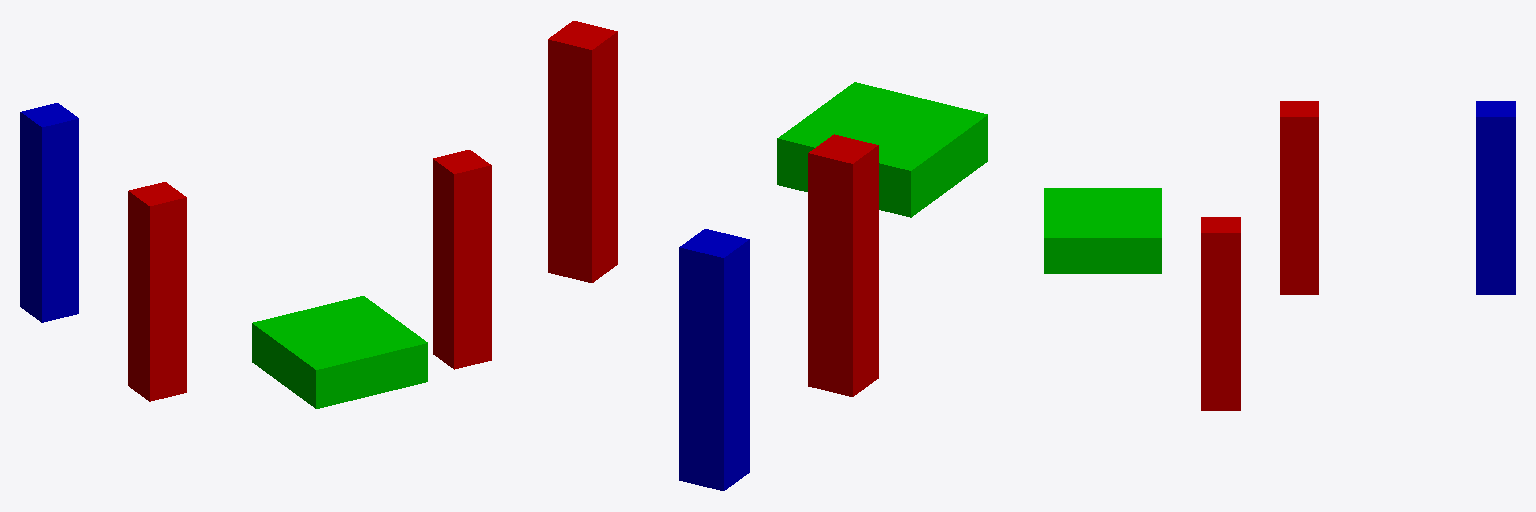
URDF robot description (test_robot):
<?xml version="1.0"?>
<robot name="test_robot"
       xmlns:sensor="http://playerstage.sourceforge.net/gazebo/xmlschema/#sensor"
       xmlns:controller="http://playerstage.sourceforge.net/gazebo/xmlschema/#controller"
       xmlns:interface="http://playerstage.sourceforge.net/gazebo/xmlschema/#interface"
       xmlns:xacro="http://ros.org/wiki/xacro">

  <material name="Blue">
    <color rgba="0.0 0.0 0.8 1.0"/>
  </material>
  <material name="Green">
    <color rgba="0.0 0.8 0.0 1.0"/>
  </material>
  <material name="Grey">
    <color rgba="0.7 0.7 0.7 1.0"/>
  </material>
  <material name="Grey2">
    <color rgba="0.9 0.9 0.9 1.0"/>
  </material>
  <material name="Red">
    <color rgba="0.8 0.0 0.0 1.0"/>
  </material>
  <material name="White">
    <color rgba="1.0 1.0 1.0 1.0"/>
  </material>
  <material name="Black">
    <color rgba="0.0 0.0 0.0 1.0"/>
  </material>


  <link name="link1">
      <inertial>
	<origin xyz="0 0 0" /> 
	<mass value="4.0" />
	<inertia  ixx="1.0" ixy="0.0"  ixz="0.0"  iyy="100.0"  iyz="0.0"  izz="1.0" />
      </inertial>
      <visual>
        <origin xyz="0 0 0" rpy="0 0 0" />
        <geometry>
          <box size="3 3 1" />
        </geometry>
        <material name="Green"/>
      </visual>
  </link>

  <link name="link2">
      <inertial>
        <origin xyz="0 0 0" />
        <mass value="4.0" />
        <inertia  ixx="1.0" ixy="0.0"  ixz="0.0"  iyy="100.0"  iyz="0.0"  izz="1.0" />
      </inertial>
      <visual>
        <origin xyz="0 0 0" rpy="0 0 0" />
        <geometry>
          <box size="1 1 5" />
        </geometry>
        <material name="Red"/>
      </visual>
    </link>

  <link name="link3">
     <inertial>
        <origin xyz="0 0 0" />
        <mass value="4.0" />
        <inertia  ixx="1.0" ixy="0.0"  ixz="0.0"  iyy="100.0"  iyz="0.0"  izz="1.0" />
      </inertial>
      <visual>
        <origin xyz="0 0 0" rpy="0 0 0" />
        <geometry>
          <box size="1 1 5" />
        </geometry>
        <material name="Red"/>
      </visual>
   </link>

  <link name="link4">
     <inertial>
        <origin xyz="0 0 0" />
        <mass value="4.0" />
        <inertia  ixx="1.0" ixy="0.0"  ixz="0.0"  iyy="100.0"  iyz="0.0"  izz="1.0" />
      </inertial>
      <visual>
        <origin xyz="0 0 0" rpy="0 0 0" />
        <geometry>
          <box size="1 1 5" />
        </geometry>
        <material name="Blue"/>
      </visual>
   </link>

  <joint name="joint1" type="continuous">
    <parent link="link1"/>
    <child link="link2"/>
    <origin xyz="5 3 0" rpy="0 0 0" />
    <axis xyz="-0.9 0.15 0" />
  </joint>

  <joint name="joint2" type="continuous">
    <parent link="link1"/>
    <child link="link3"/>
    <origin xyz="-2 5 0" rpy="0 0 1.57" />
    <axis xyz="-0.707 0.707 0" />
  </joint>

  <joint name="joint3" type="continuous">
    <parent link="link3"/>
    <child link="link4"/>
    <origin xyz="5 0 0" rpy="0 0 -1.57" />
    <axis xyz="0.707 -0.707 0" />
  </joint>
</robot>

--- Facts derived from the render (not from the file) ---
3 views of the same robot in one strip: view 1: azimuth 30°, elevation 25°; view 2: azimuth 150°, elevation 25°; view 3: azimuth 270°, elevation 25° (orthographic).
Robot: test_robot — 4 links, 3 joints (3 continuous); root link link1; default pose: every joint at zero.
Visible links, largest first — view 1: link1, link4, link2, link3; view 2: link3, link4, link2, link1; view 3: link1, link2, link4, link3.
Boxes of the visible links, x1,y1,x2,y2 form: link1: (252, 296, 427, 408); link4: (20, 103, 78, 322); link2: (433, 150, 491, 369); link3: (128, 182, 186, 401); link3: (808, 134, 878, 396); link4: (679, 229, 749, 490); link2: (548, 21, 617, 282); link1: (777, 82, 987, 217); link1: (1044, 188, 1161, 273); link2: (1201, 217, 1240, 410); link4: (1476, 101, 1515, 294); link3: (1280, 101, 1318, 294).
Size in the robot's own frame: 8 by 12 by 5 metres.
Geometry: primitives only (box / cylinder / sphere), no mesh files.
